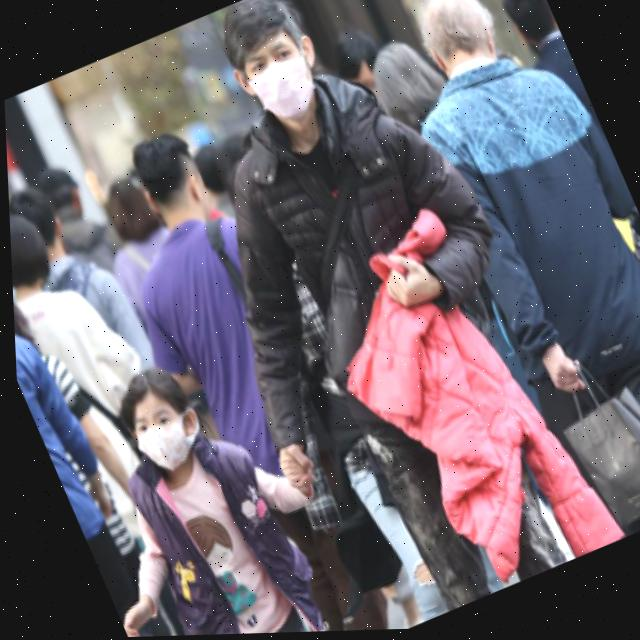Mask: (235, 47, 331, 134), (122, 407, 211, 477)
